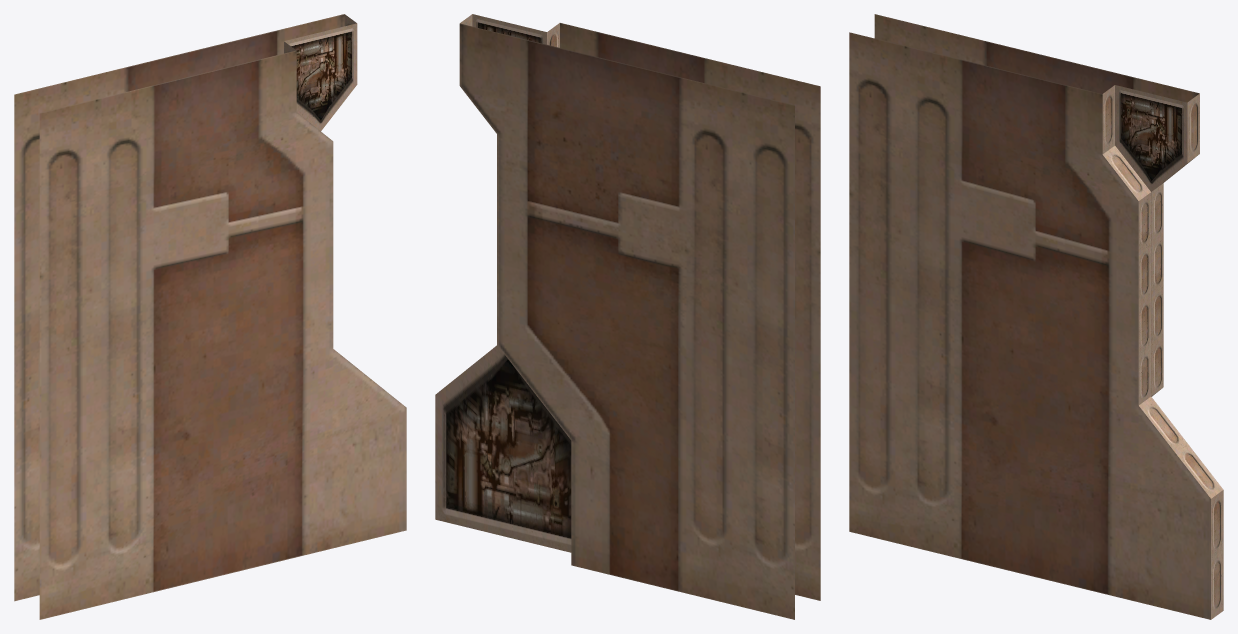
File: door_nboo_emp_s02.fbx
3 views of the same model, side by side, from view 1: azimuth 30°, elevation 25°; view 2: azimuth 150°, elevation 25°; view 3: azimuth 330°, elevation 25° (orthographic). The views are drawn at different scales.
Visible parts, largest first — view 1: mesh_node; view 2: mesh_node; view 3: mesh_node.
Part boxes in pixels (x1,y1,x2,y2): mesh_node: (14,14,406,619); mesh_node: (435,14,820,619); mesh_node: (849,14,1223,619).
Bounding box in the file's own units: 2.5 × 3.3 × 0.3.
